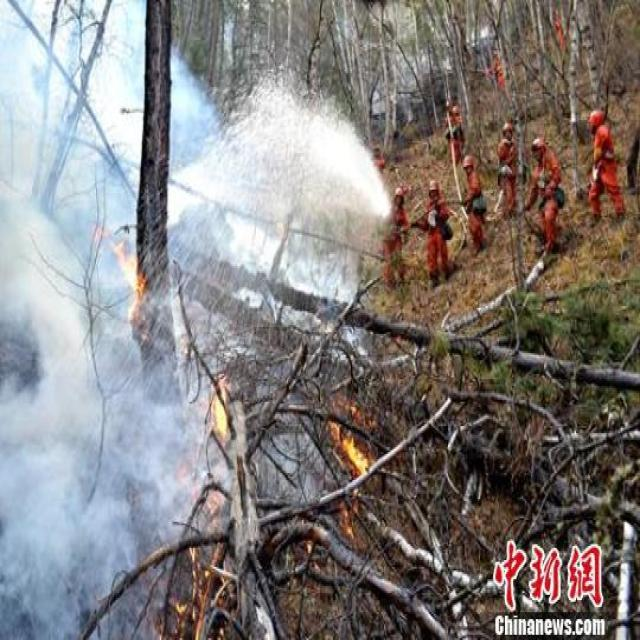Fire: (320, 396, 372, 490), (104, 232, 153, 320), (176, 532, 209, 615), (202, 368, 233, 445), (196, 470, 222, 512)
Smoke: (9, 231, 94, 530), (92, 42, 152, 146)
